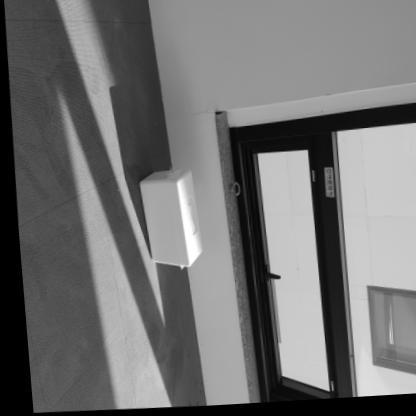DDL: (131, 168, 200, 270)
